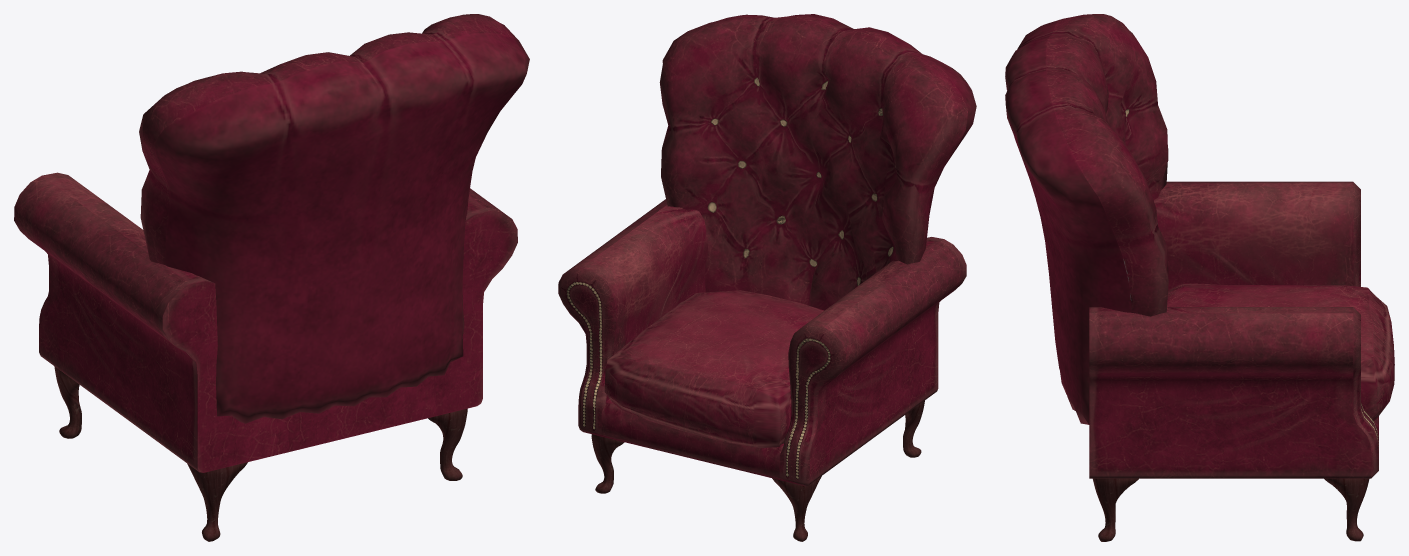
Rendered from big_leather_chair_outdated.glb.
3 views of the same model, side by side, from view 1: azimuth 30°, elevation 25°; view 2: azimuth 150°, elevation 25°; view 3: azimuth 270°, elevation 25° (orthographic). The views are drawn at different scales.
Visible parts, largest first — view 1: Back_low, Armrests_low, Leg2_low, Leg1_low, Leg3_low; view 2: Back_low, Armrests_low, Cushion_low, Leg3_low, Leg4_low, Leg2_low; view 3: Armrests_low, Back_low, Cushion_low, Leg1_low, Leg4_low.
Boxes of the visible parts, left/top/right/bottom form: Back_low: left=139, top=14, right=529, bottom=423; Armrests_low: left=14, top=172, right=517, bottom=472; Leg2_low: left=187, top=462, right=247, bottom=541; Leg1_low: left=428, top=408, right=467, bottom=480; Leg3_low: left=54, top=366, right=81, bottom=438; Back_low: left=659, top=14, right=976, bottom=310; Armrests_low: left=558, top=199, right=966, bottom=486; Cushion_low: left=604, top=290, right=823, bottom=448; Leg3_low: left=772, top=476, right=821, bottom=541; Leg4_low: left=591, top=434, right=624, bottom=493; Leg2_low: left=903, top=400, right=924, bottom=457; Armrests_low: left=1089, top=181, right=1378, bottom=478; Back_low: left=1005, top=14, right=1168, bottom=424; Cushion_low: left=1167, top=282, right=1394, bottom=420; Leg1_low: left=1093, top=478, right=1138, bottom=541; Leg4_low: left=1324, top=478, right=1369, bottom=541.
Bounding box in the file's own units: 1.06 × 1.35 × 1.11.
Materials: 1 (1 with a texture image).
